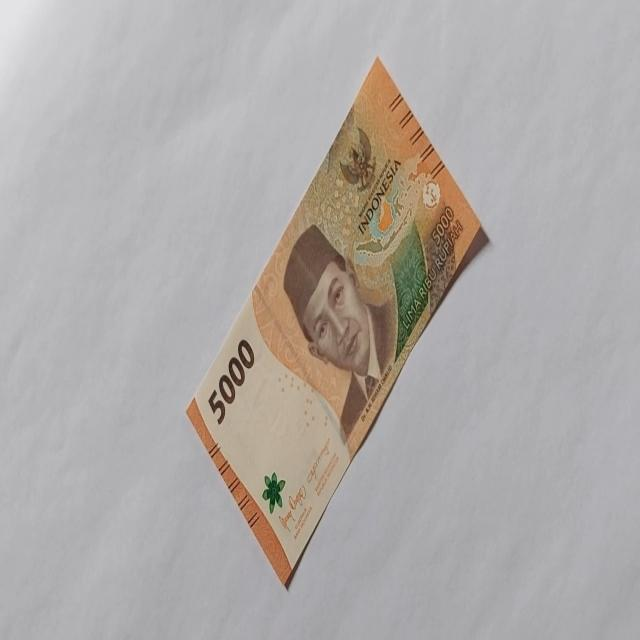lima ribu rupiah: (186, 58, 491, 591), (282, 221, 398, 443)
